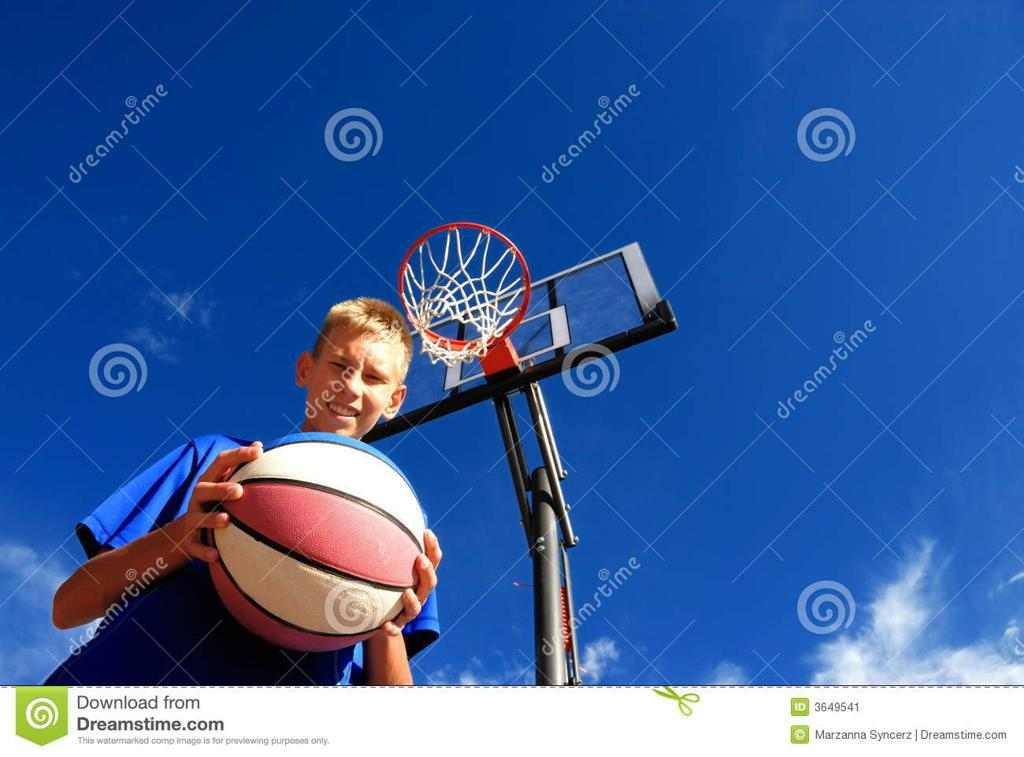face: (315, 327, 409, 441)
